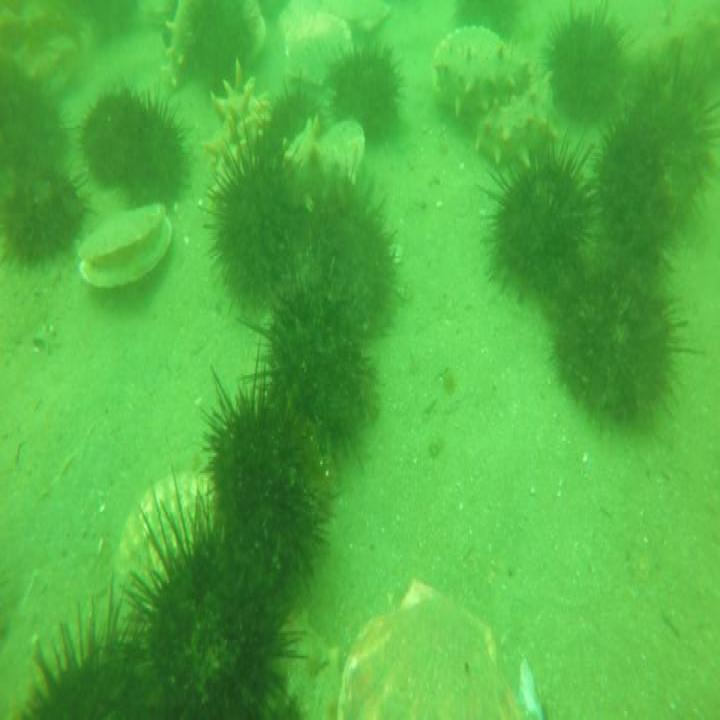echinus: (134, 494, 303, 716), (252, 251, 386, 471), (193, 359, 329, 573), (554, 238, 697, 441), (6, 586, 187, 720), (282, 171, 398, 336), (206, 128, 305, 316), (482, 141, 595, 302), (635, 43, 720, 206), (585, 123, 679, 265), (543, 0, 628, 142), (0, 151, 90, 269), (113, 94, 196, 221), (182, 0, 260, 101), (74, 82, 140, 199), (331, 36, 407, 132), (256, 77, 318, 158)
holothurian: (208, 55, 272, 192), (432, 34, 531, 122), (471, 80, 541, 171), (161, 0, 196, 85)
scallop: (338, 569, 540, 720), (119, 460, 223, 601), (76, 201, 173, 299), (282, 6, 356, 84), (308, 114, 370, 202), (326, 0, 396, 36)
